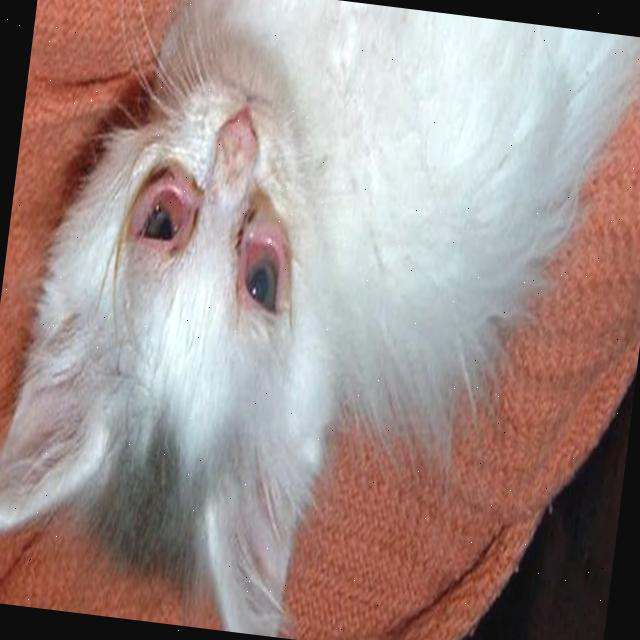cat-eye: (122, 156, 206, 288), (227, 203, 300, 334)
